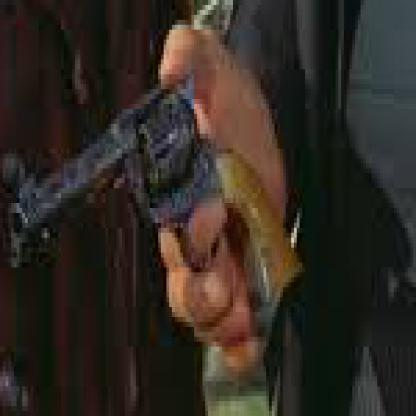gun: (66, 5, 383, 368)
